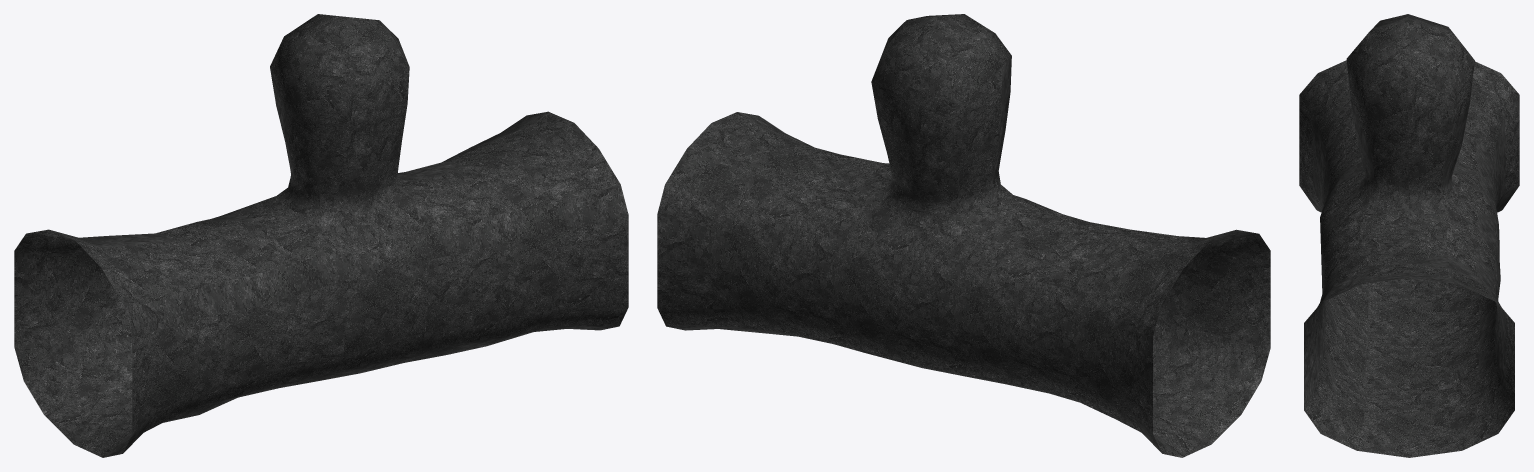
File: CaveHallwayRoofHole.glb
3 views of the same model, side by side, from view 1: azimuth 30°, elevation 25°; view 2: azimuth 150°, elevation 25°; view 3: azimuth 270°, elevation 25° (orthographic). The views are drawn at different scales.
Visible parts, largest first — view 1: Cube.125; view 2: Cube.125; view 3: Cube.125.
Boxes of the visible parts, bbox=[...] form: Cube.125: bbox=[14, 14, 628, 457]; Cube.125: bbox=[657, 14, 1270, 457]; Cube.125: bbox=[1299, 14, 1519, 457].
Bounding box in the file's own units: 19.44 × 13.43 × 7.93.
1 material, 1 textured.
